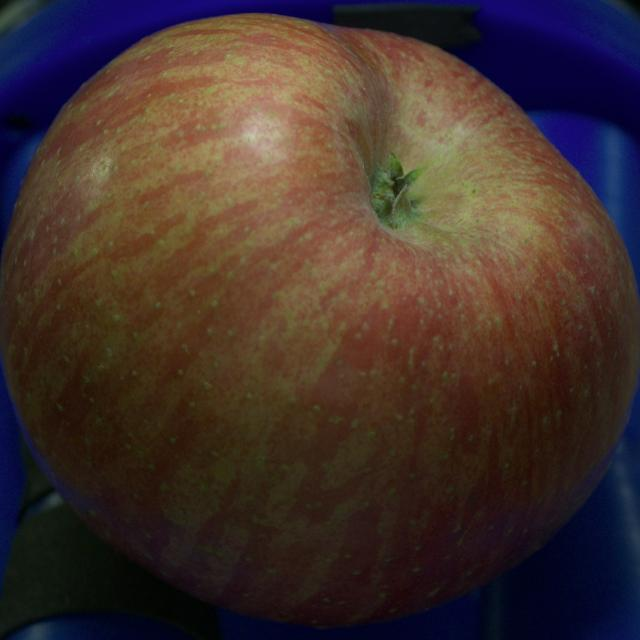apple: (0, 14, 639, 626)
